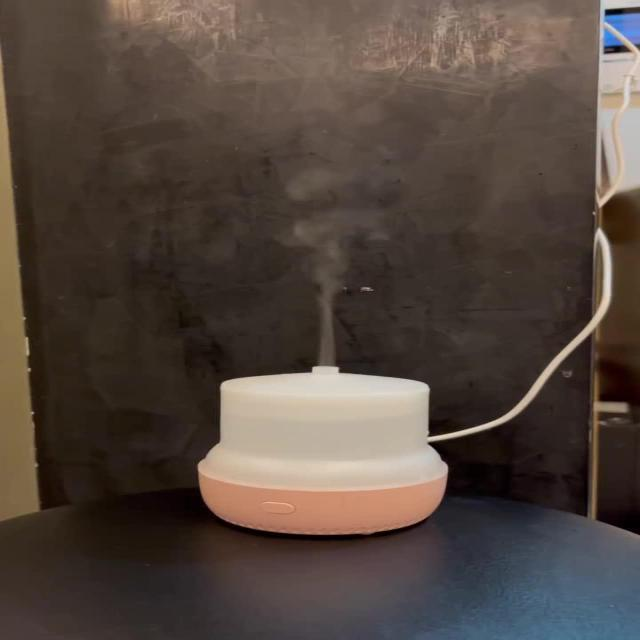fire: (284, 168, 393, 366)
